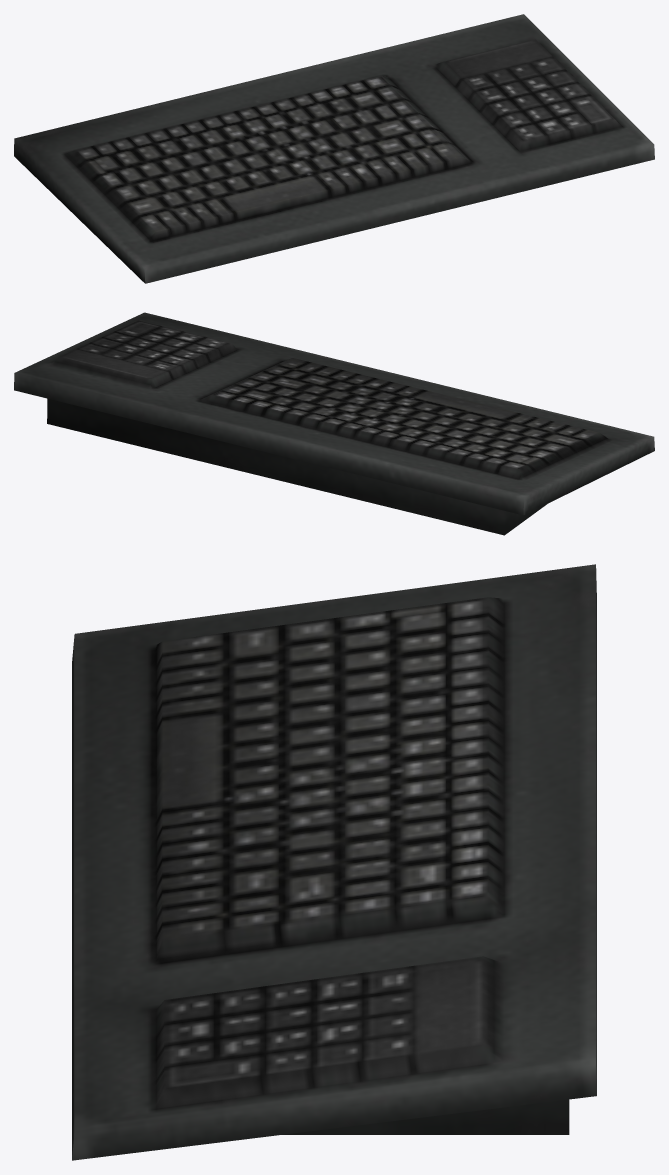
The model's file is keyboard.fbx.
The picture shows the model from 3 angles, top to bottom: view 1: azimuth 30°, elevation 25°; view 2: azimuth 150°, elevation 25°; view 3: azimuth 270°, elevation 25°; orthographic projection. The views are drawn at different scales.
Visible parts, largest first — view 1: Scene_Root; view 2: Scene_Root; view 3: Scene_Root.
Part boxes in pixels (x1=…): Scene_Root: x1=14, y1=14, x2=654, y2=283; Scene_Root: x1=14, y1=312, x2=654, y2=535; Scene_Root: x1=72, y1=564, x2=596, y2=1160.
Size of the model in its own units: 39 by 3.62 by 17.4.
